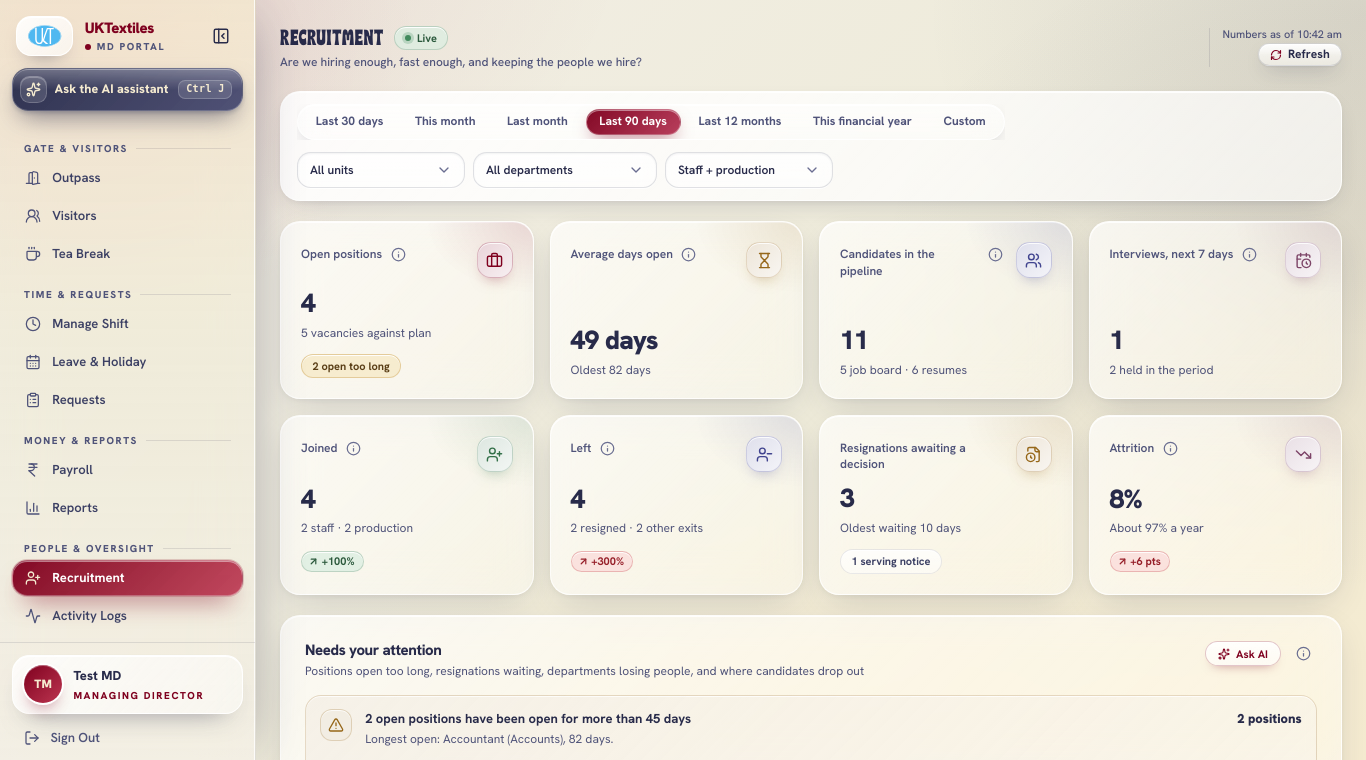
Test: the Recruitment page › explains every card, in the words the assistant quotes
(page scrolled)
Click the 1st button with test id "provenance-button" at [398, 254], box [384,240,412,268]
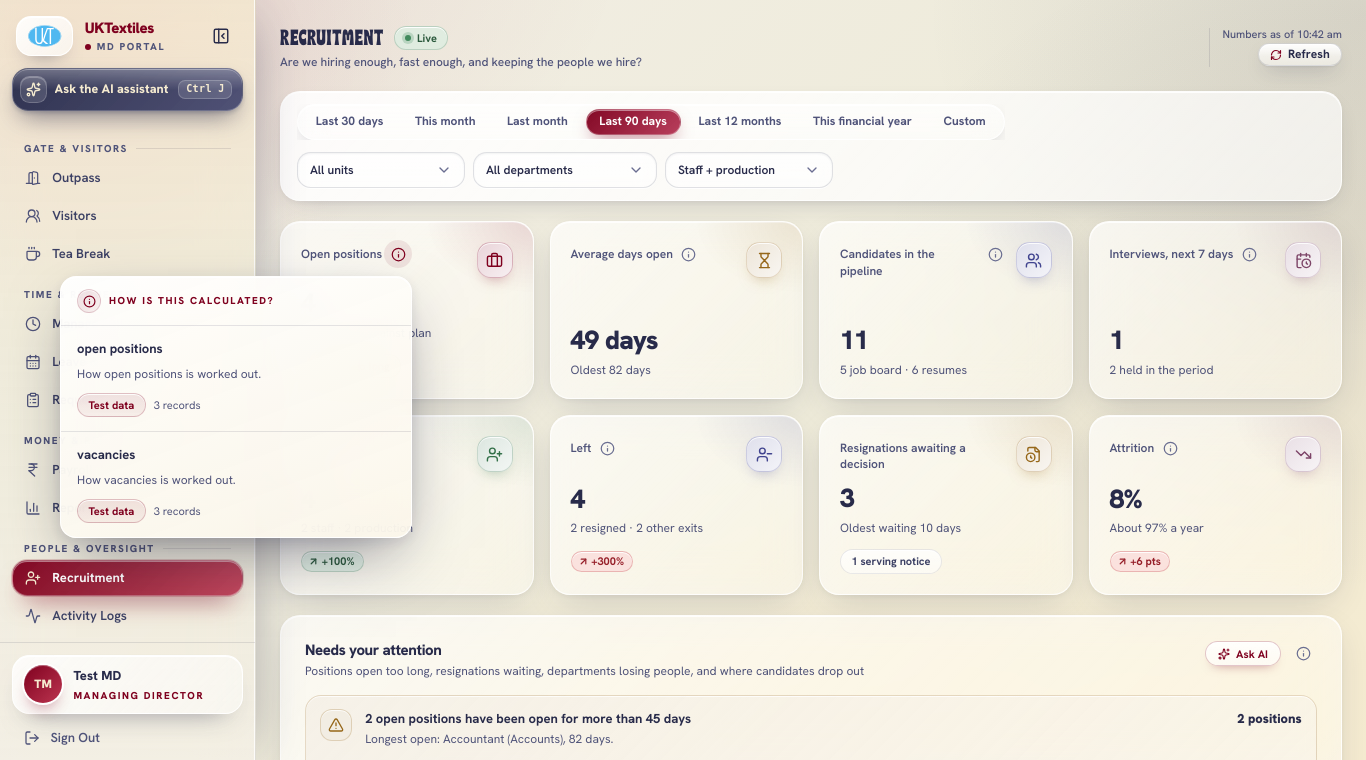
Expected: the text "How open positions is worked out." is shown, [77,366,261,382]
